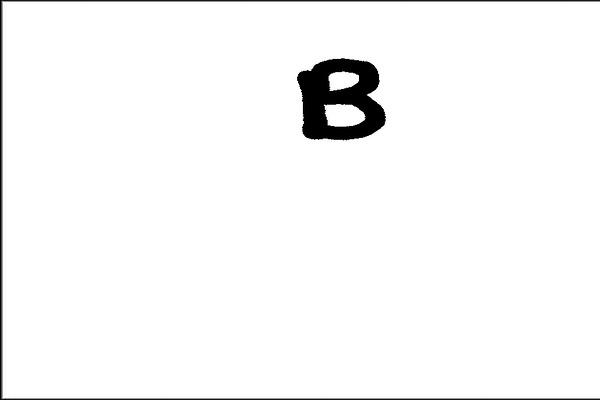B: (284, 48, 395, 150)
